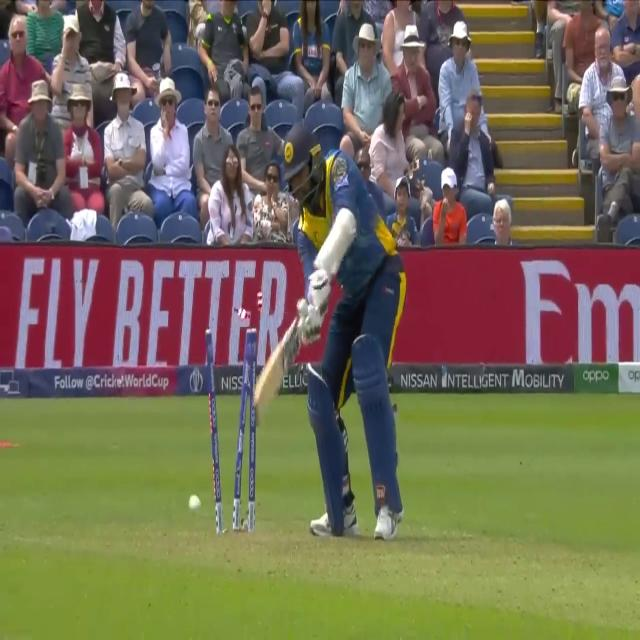ball: (187, 486, 203, 520)
